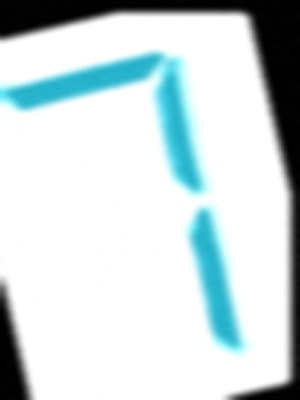seven: (20, 20, 280, 390)
